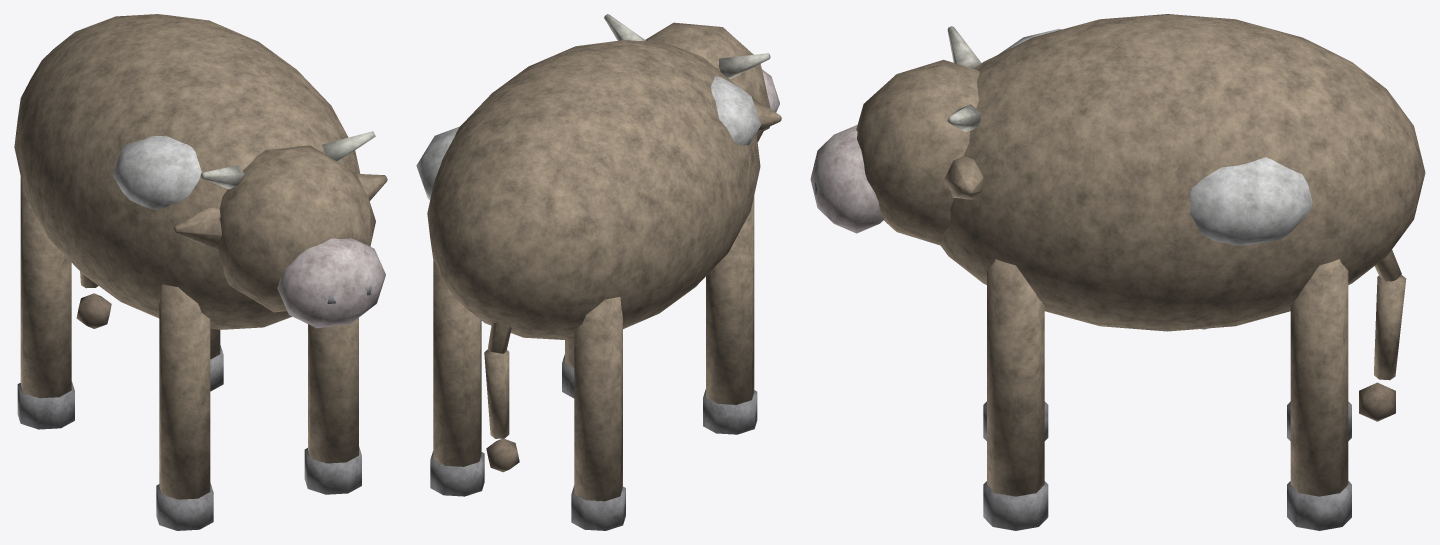
The model's file is mob_sapi_idle.obj.
The picture shows the model from 3 angles, left to right: view 1: azimuth 30°, elevation 25°; view 2: azimuth 150°, elevation 25°; view 3: azimuth 270°, elevation 25°; orthographic projection. The views are drawn at different scales.
Visible parts, largest first — view 1: mob_sapi_idle; view 2: mob_sapi_idle; view 3: mob_sapi_idle.
Part boxes in pixels (box(x1,y1,x2,y2)): mob_sapi_idle: box(14, 14, 387, 530); mob_sapi_idle: box(416, 14, 781, 530); mob_sapi_idle: box(810, 14, 1425, 530).
Bounding box in the file's own units: 1.05 × 1.5 × 1.87.
Materials: 1 (1 with a texture image).
